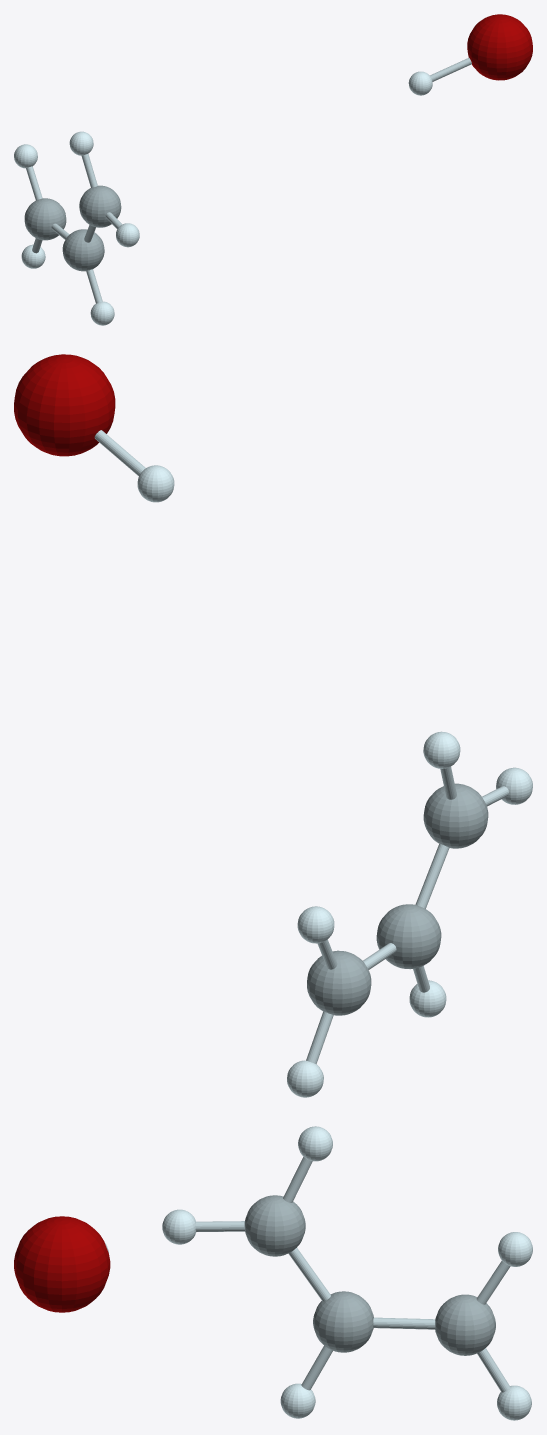
File: irc_step_055.glb
The picture shows the model from 3 angles, top to bottom: view 1: azimuth 30°, elevation 25°; view 2: azimuth 150°, elevation 25°; view 3: azimuth 270°, elevation 25°; orthographic projection. The views are drawn at different scales.
Visible parts, largest first — view 1: Renderer Node; view 2: Renderer Node; view 3: Renderer Node.
Boxes of the visible parts, <box> form: Renderer Node: <box>14,14,532,325</box>; Renderer Node: <box>14,354,532,1097</box>; Renderer Node: <box>14,1126,532,1420</box>.
Bounding box in the file's own units: 7.16 × 5.29 × 5.91.
